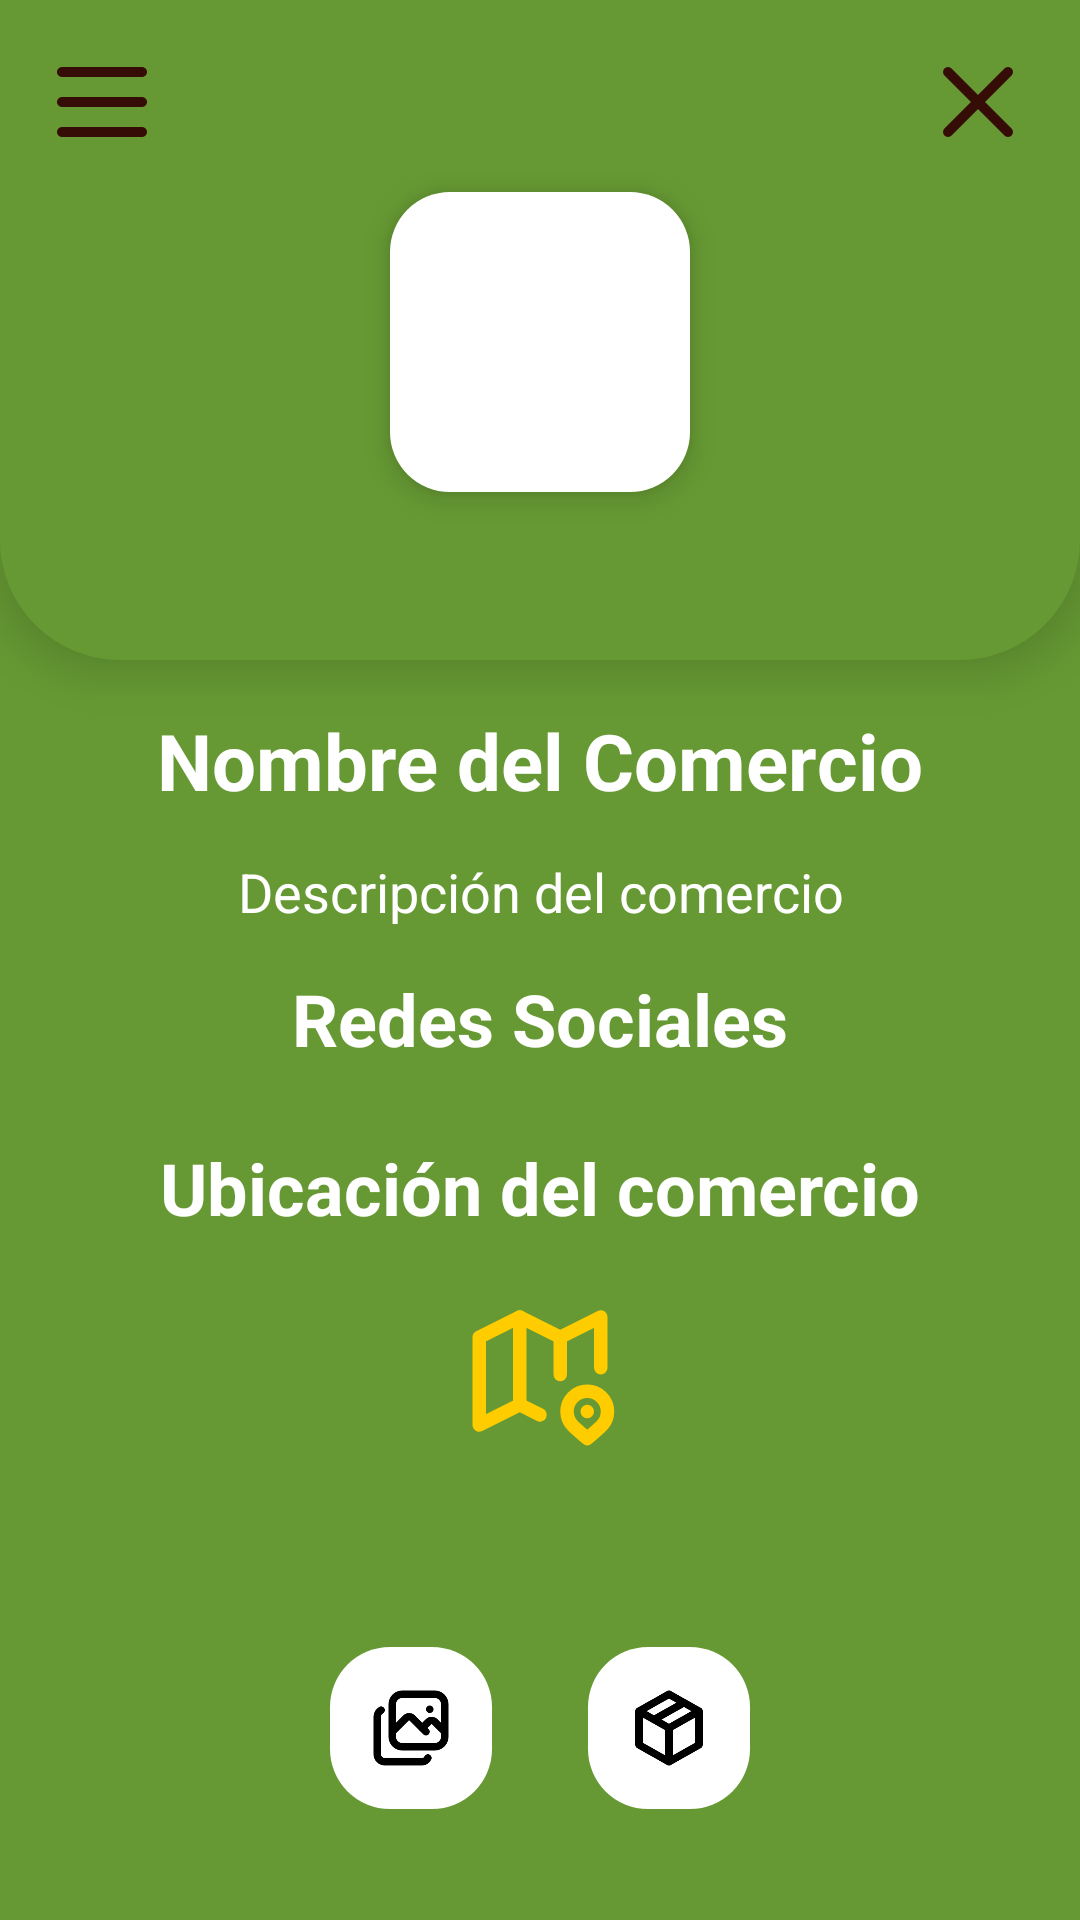

Icon click points for this 1080 × 1920 phone screenshot, format (x=x, y=y):
Abrir en Google Maps: (x=543, y=1378)
album: (x=411, y=1728)
close: (x=978, y=102)
menu: (x=102, y=102)
productos: (x=669, y=1728)
